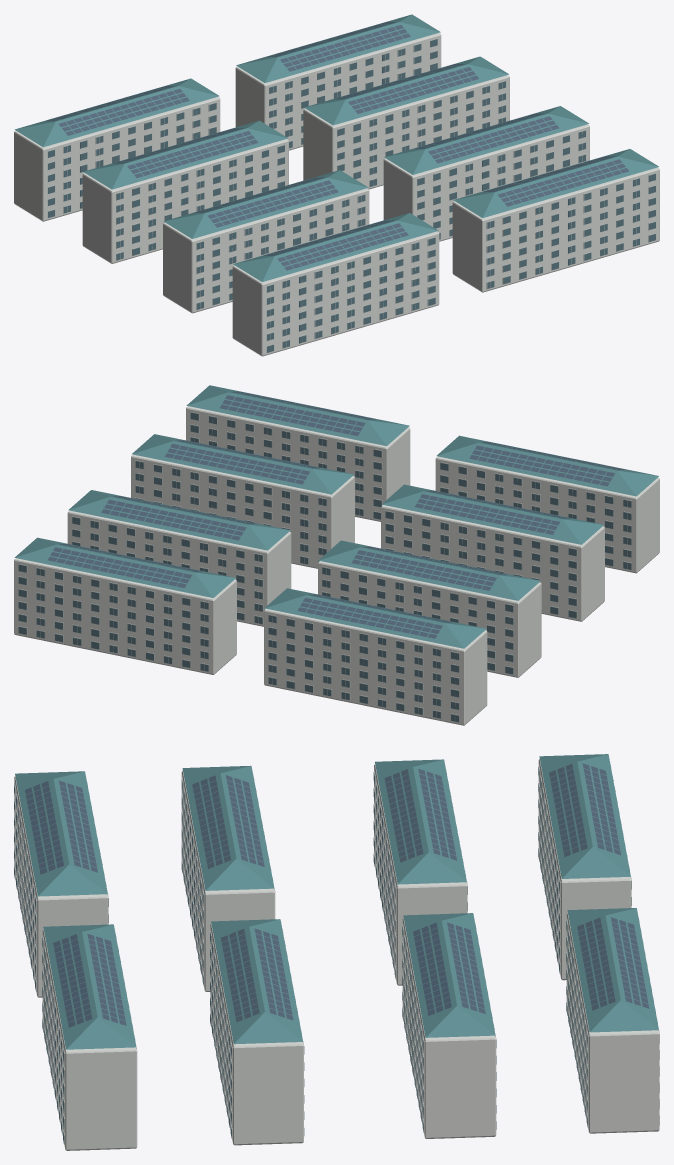
The model's file is seu_taoyuan_detail_v05.glb.
The picture shows the model from 3 angles, top to bottom: view 1: azimuth 30°, elevation 25°; view 2: azimuth 150°, elevation 25°; view 3: azimuth 270°, elevation 25°; orthographic projection. The views are drawn at different scales.
Visible parts, largest first — view 1: SEU_B_OSMWAY_630136424__0004, SEU_B_OSMWAY_630136428__0004, SEU_B_OSMWAY_630136422__0004, SEU_B_OSMWAY_630136426__0004, SEU_B_OSMWAY_630136423__0004, SEU_B_OSMWAY_630136421__0004, SEU_B_OSMWAY_630136427__0004, SEU_B_OSMWAY_630136425__0004, SEU_B_OSMWAY_630136428__V05_pitched_roof, SEU_B_OSMWAY_630136424__V05_pitched_roof, SEU_B_OSMWAY_630136426__V05_pitched_roof, SEU_B_OSMWAY_630136427__V05_pitched_roof (+28 smaller); view 2: SEU_B_OSMWAY_630136421__0004, SEU_B_OSMWAY_630136425__0004, SEU_B_OSMWAY_630136423__0004, SEU_B_OSMWAY_630136427__0004, SEU_B_OSMWAY_630136424__0004, SEU_B_OSMWAY_630136422__0004, SEU_B_OSMWAY_630136428__0004, SEU_B_OSMWAY_630136426__0004, SEU_B_OSMWAY_630136425__0002, SEU_B_OSMWAY_630136421__0002, SEU_B_OSMWAY_630136428__V05_pitched_roof, SEU_B_OSMWAY_630136424__V05_pitched_roof (+28 smaller); view 3: SEU_B_OSMWAY_630136428__0004, SEU_B_OSMWAY_630136426__0004, SEU_B_OSMWAY_630136427__0004, SEU_B_OSMWAY_630136425__0004, SEU_B_OSMWAY_630136428__V05_pitched_roof, SEU_B_OSMWAY_630136424__V05_pitched_roof, SEU_B_OSMWAY_630136426__V05_pitched_roof, SEU_B_OSMWAY_630136427__V05_pitched_roof, SEU_B_OSMWAY_630136422__V05_pitched_roof, SEU_B_OSMWAY_630136425__V05_pitched_roof, SEU_B_OSMWAY_630136423__V05_pitched_roof, SEU_B_OSMWAY_630136421__V05_pitched_roof (+28 smaller).
Boxes of the visible parts, x1,y1,x2,y2 form: SEU_B_OSMWAY_630136424__0004: (232, 231, 439, 356); SEU_B_OSMWAY_630136428__0004: (452, 167, 659, 292); SEU_B_OSMWAY_630136422__0004: (82, 139, 288, 263); SEU_B_OSMWAY_630136426__0004: (303, 75, 509, 189); SEU_B_OSMWAY_630136423__0004: (163, 188, 369, 313); SEU_B_OSMWAY_630136421__0004: (14, 97, 220, 221); SEU_B_OSMWAY_630136427__0004: (383, 124, 589, 241); SEU_B_OSMWAY_630136425__0004: (235, 33, 441, 150); SEU_B_OSMWAY_630136428__V05_pitched_roof: (453, 149, 658, 217); SEU_B_OSMWAY_630136424__V05_pitched_roof: (233, 213, 438, 281); SEU_B_OSMWAY_630136426__V05_pitched_roof: (304, 56, 508, 125); SEU_B_OSMWAY_630136427__V05_pitched_roof: (384, 106, 589, 174); SEU_B_OSMWAY_630136421__0004: (264, 608, 487, 725); SEU_B_OSMWAY_630136425__0004: (14, 558, 236, 674); SEU_B_OSMWAY_630136423__0004: (381, 505, 604, 621); SEU_B_OSMWAY_630136427__0004: (131, 454, 354, 568); SEU_B_OSMWAY_630136424__0004: (435, 456, 659, 573); SEU_B_OSMWAY_630136422__0004: (318, 561, 541, 677); SEU_B_OSMWAY_630136428__0004: (186, 406, 410, 521); SEU_B_OSMWAY_630136426__0004: (67, 510, 291, 626); SEU_B_OSMWAY_630136425__0002: (18, 564, 208, 671); SEU_B_OSMWAY_630136421__0002: (268, 615, 458, 722); SEU_B_OSMWAY_630136428__V05_pitched_roof: (186, 385, 409, 445); SEU_B_OSMWAY_630136424__V05_pitched_roof: (436, 435, 658, 496); SEU_B_OSMWAY_630136428__0004: (42, 929, 137, 1150); SEU_B_OSMWAY_630136426__0004: (402, 918, 496, 1138); SEU_B_OSMWAY_630136427__0004: (210, 924, 303, 1145); SEU_B_OSMWAY_630136425__0004: (566, 912, 659, 1133); SEU_B_OSMWAY_630136428__V05_pitched_roof: (43, 924, 136, 1049); SEU_B_OSMWAY_630136424__V05_pitched_roof: (15, 771, 107, 896); SEU_B_OSMWAY_630136426__V05_pitched_roof: (403, 913, 495, 1037); SEU_B_OSMWAY_630136427__V05_pitched_roof: (211, 919, 302, 1044); SEU_B_OSMWAY_630136422__V05_pitched_roof: (375, 759, 466, 884); SEU_B_OSMWAY_630136425__V05_pitched_roof: (567, 908, 658, 1032); SEU_B_OSMWAY_630136423__V05_pitched_roof: (182, 765, 274, 890); SEU_B_OSMWAY_630136421__V05_pitched_roof: (539, 754, 630, 878).
Bounding box in the file's own units: 126 × 22.45 × 116.
